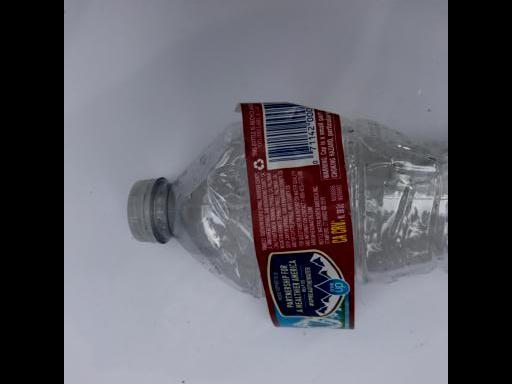bottle: (128, 99, 448, 335)
